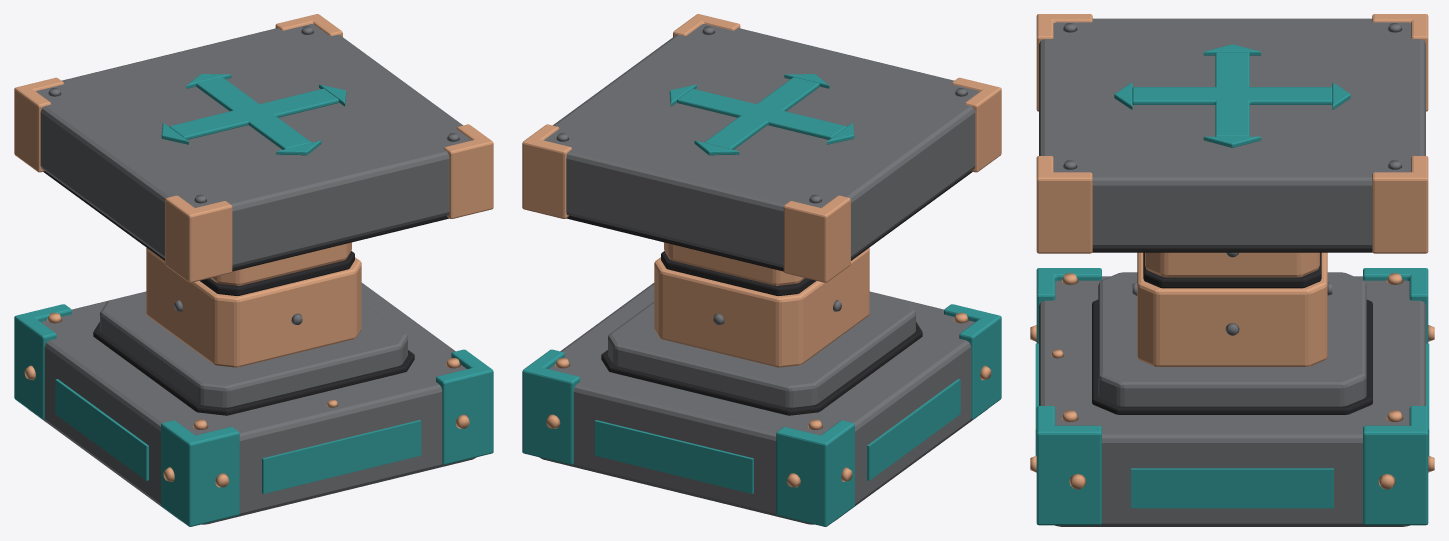
Rendered from piston_1.glb.
The picture shows the model from 3 angles, left to right: view 1: azimuth 30°, elevation 25°; view 2: azimuth 150°, elevation 25°; view 3: azimuth 270°, elevation 25°; orthographic projection. The views are drawn at different scales.
Visible parts, largest first — view 1: Base, head; view 2: Base, head; view 3: Base, head.
Part boxes in pixels (box(x1,y1,x2,y2)): Base: box(14, 248, 493, 526); head: box(14, 14, 493, 285); Base: box(522, 248, 1001, 526); head: box(522, 14, 1001, 285); Base: box(1030, 252, 1434, 526); head: box(1036, 14, 1428, 277).
Size of the model in its own units: 0.259 by 0.2505 by 0.259.
